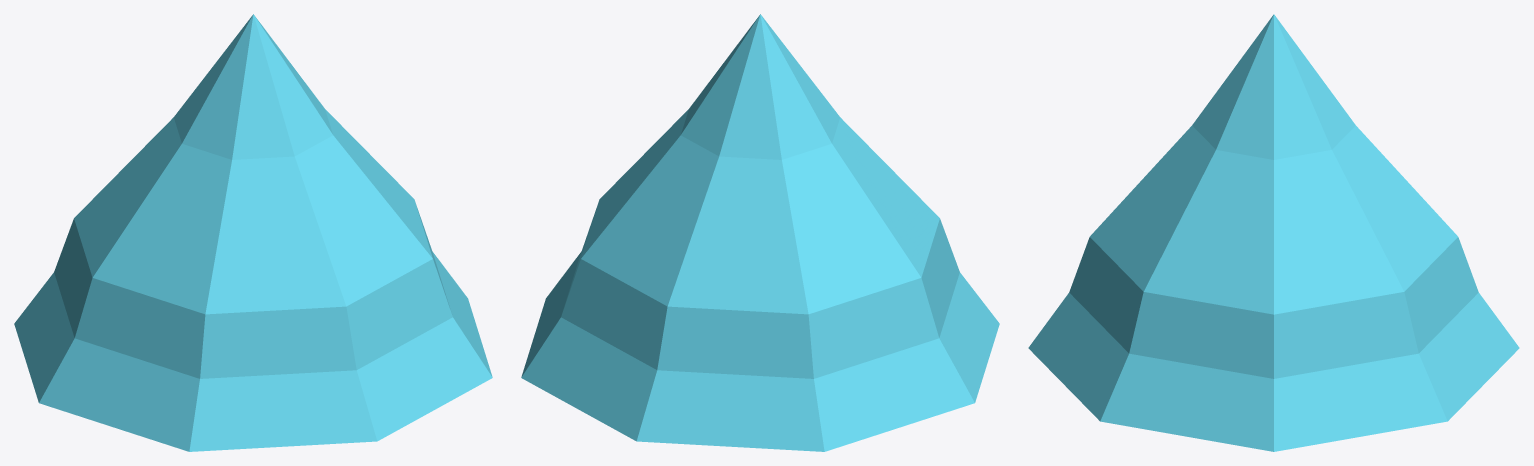
The picture shows the model from 3 angles, left to right: view 1: azimuth 30°, elevation 25°; view 2: azimuth 150°, elevation 25°; view 3: azimuth 270°, elevation 25°; orthographic projection.
Visible parts, largest first — view 1: sh-2 CAD Structure; view 2: sh-2 CAD Structure; view 3: sh-2 CAD Structure.
Part boxes in pixels (x1,y1,x2,y2): sh-2 CAD Structure: [14, 14, 492, 451]; sh-2 CAD Structure: [521, 14, 999, 451]; sh-2 CAD Structure: [1028, 14, 1519, 451].
Size of the model in its own units: 2.4 by 1.8 by 2.4.
